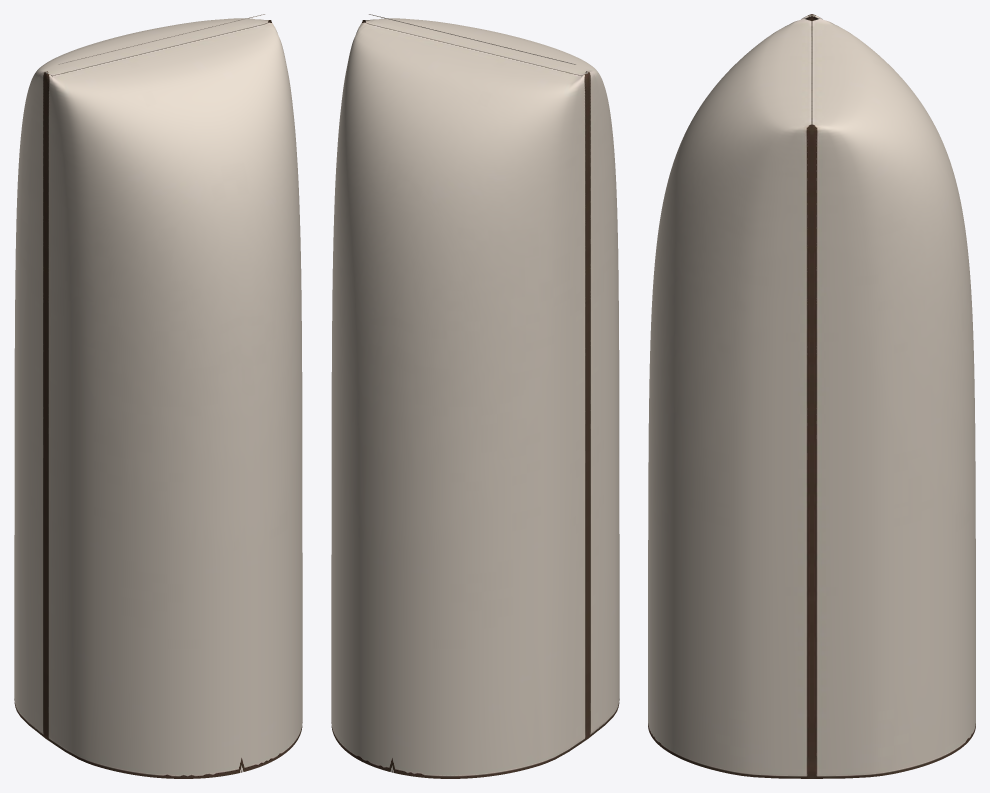
Rendered from north_wall_panel.glb.
3 views of the same model, side by side, from view 1: azimuth 30°, elevation 25°; view 2: azimuth 150°, elevation 25°; view 3: azimuth 270°, elevation 25° (orthographic).
Visible parts, largest first — view 1: north_wall_panel; view 2: north_wall_panel; view 3: north_wall_panel.
Part boxes in pixels (x1,y1,x2,y2): north_wall_panel: (14, 14, 302, 778); north_wall_panel: (331, 14, 619, 778); north_wall_panel: (648, 14, 975, 778).
Size of the model in its own units: 0.9708 by 2.76 by 1.24.
Materials: 1 (1 with a texture image).
